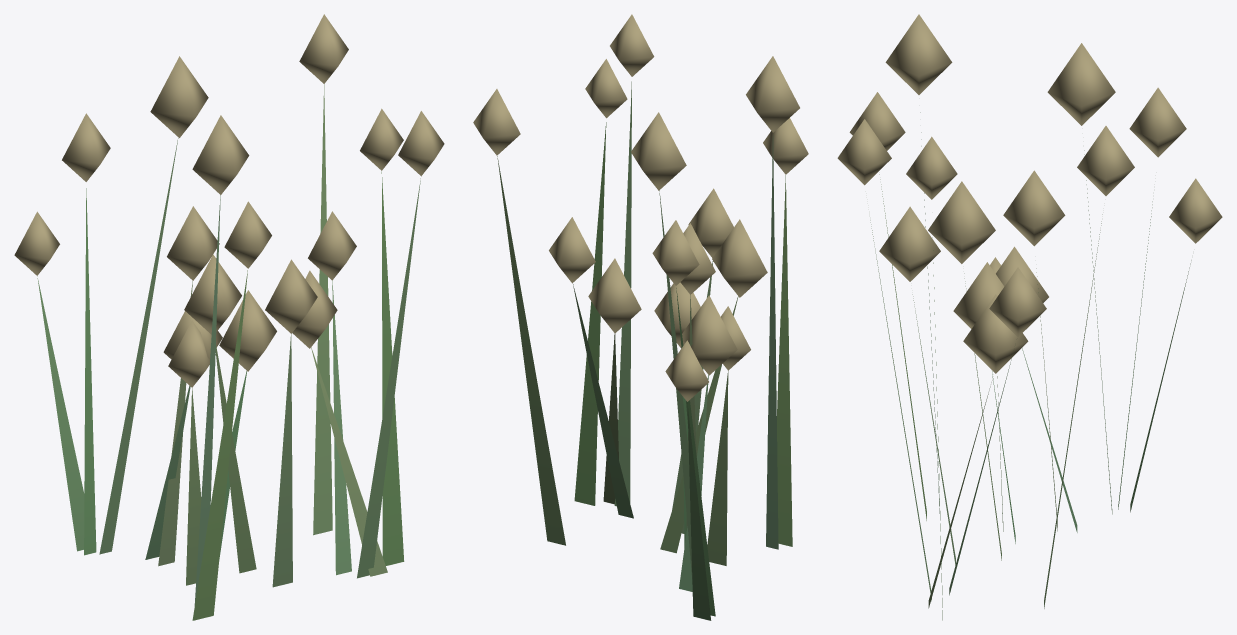
The model's file is reeds.glb.
3 views of the same model, side by side, from view 1: azimuth 30°, elevation 25°; view 2: azimuth 150°, elevation 25°; view 3: azimuth 270°, elevation 25° (orthographic). The views are drawn at different scales.
Parts seen in each view (by area): view 1: reeds; view 2: reeds; view 3: reeds.
Boxes of the visible parts, x1,y1,x2,y2 form: reeds: (14,14,444,620); reeds: (473,14,808,620); reeds: (837,14,1222,620).
Size of the model in its own units: 1.66 by 2.75 by 1.88.
